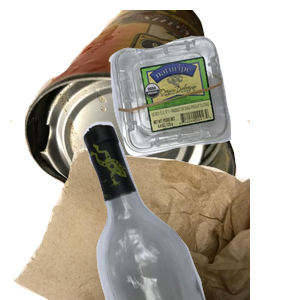glass: (81, 120, 300, 300)
metal: (22, 10, 251, 190)
plastic: (106, 34, 300, 183)
trash: (10, 120, 250, 300)
